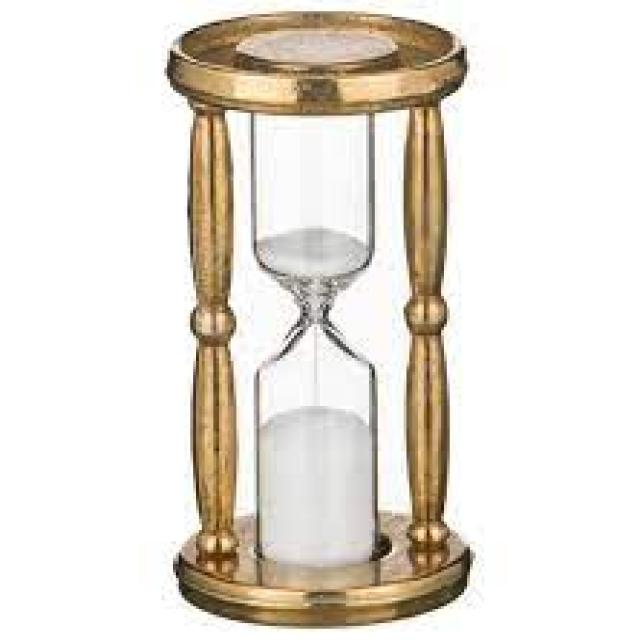clock: (129, 18, 543, 626)
